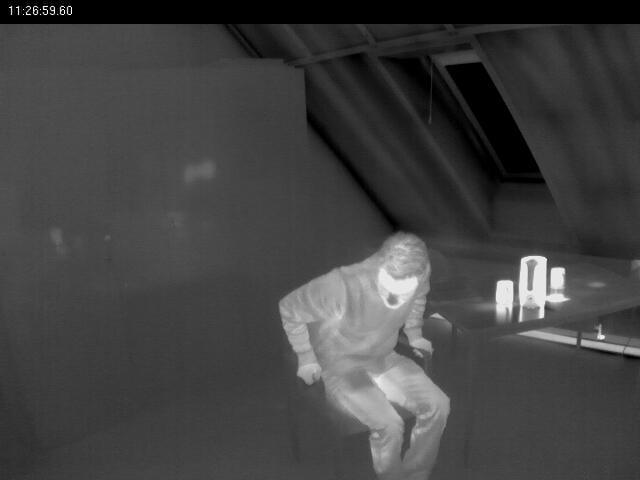person: (277, 228, 456, 480)
